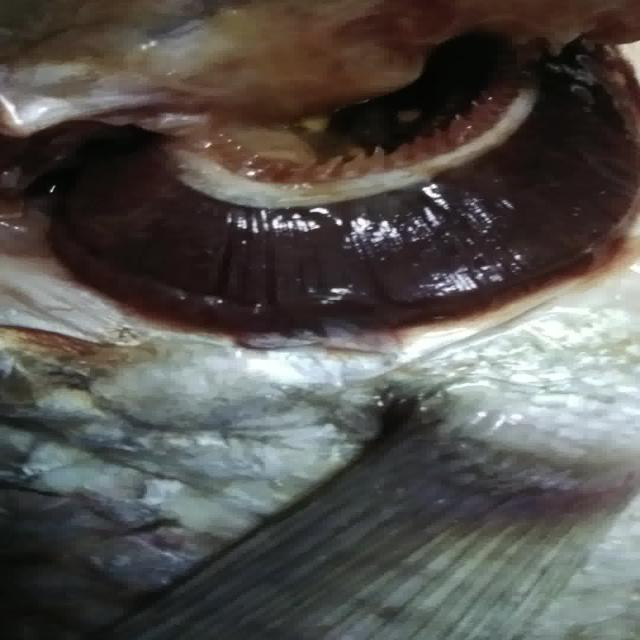Non-Fresh: (36, 17, 630, 359)
